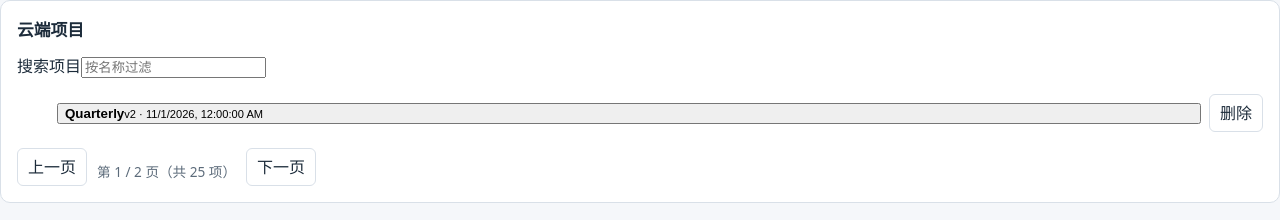
Test case: ProjectList › renders pagination controls when total exceeds one page
Expected: the text "Quarterly" is shown, [65,106,124,121]
Expected: the text "第 1 / 2 页（共 25 项）" is shown, [97,162,236,182]
Click the button "下一页" at (281, 167), box [246,148,316,186]
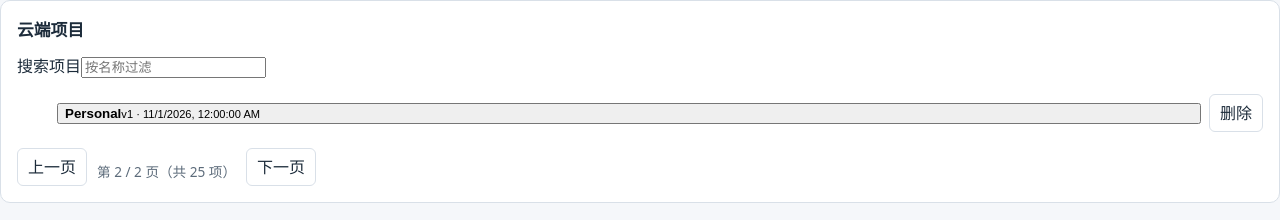
Expected: the text "Personal" is shown, [65,106,121,121]
